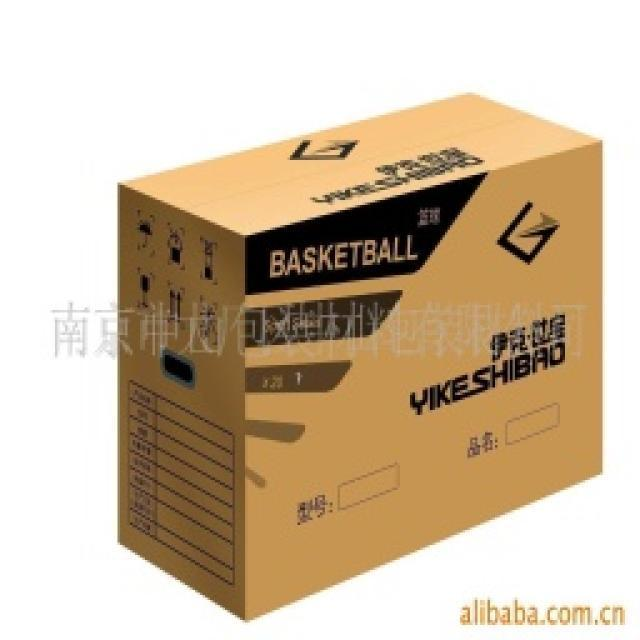box: (90, 76, 633, 633)
